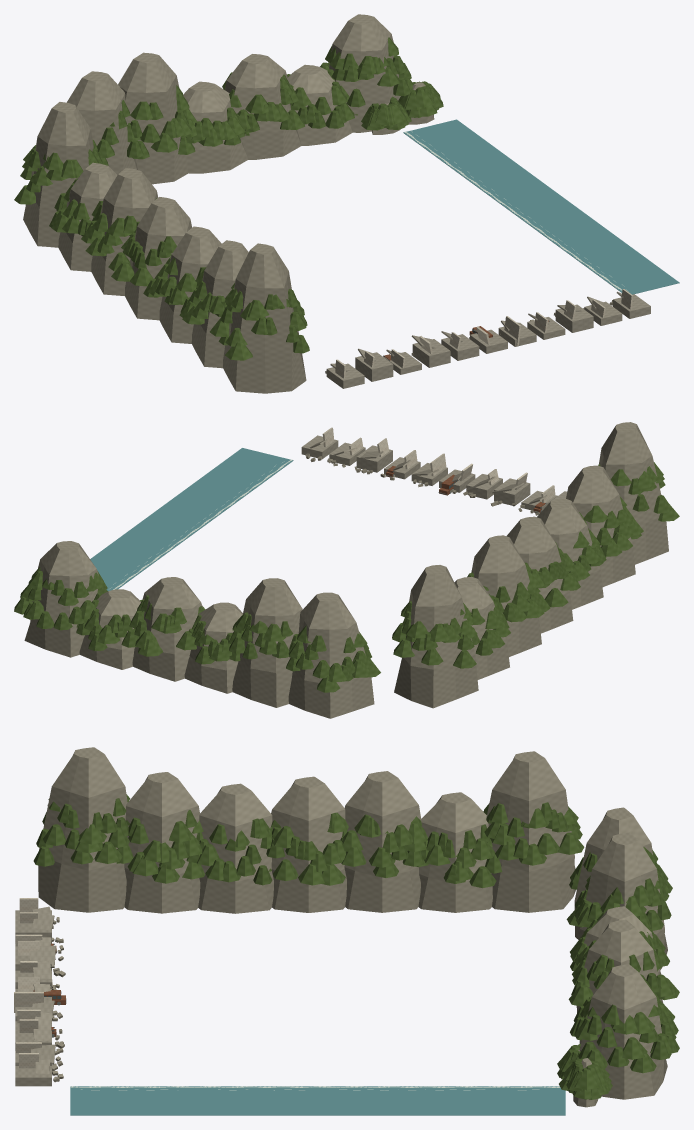
The model's file is rio-limites-v001.glb.
3 views of the same model, one above another, from view 1: azimuth 30°, elevation 25°; view 2: azimuth 150°, elevation 25°; view 3: azimuth 270°, elevation 25° (orthographic). The views are drawn at different scales.
Parts seen in each view (by area): view 1: RIO_limites_11_pedra, RIO_limites_21_mar, RIO_limites_00_folha, RIO_limites_20_folha, RIO_limites_02_folha, RIO_limites_10_folha, RIO_limites_01_folha, RIO_limites_02_concreto, RIO_limites_12_concreto, RIO_limites_22_concreto, RIO_limites_12_reboco, RIO_limites_02_reboco; view 2: RIO_limites_11_pedra, RIO_limites_00_folha, RIO_limites_21_mar, RIO_limites_10_folha, RIO_limites_02_folha, RIO_limites_20_folha, RIO_limites_01_folha, RIO_limites_12_concreto, RIO_limites_22_concreto, RIO_limites_02_concreto, RIO_limites_12_reboco; view 3: RIO_limites_11_pedra, RIO_limites_21_mar, RIO_limites_00_folha, RIO_limites_02_folha, RIO_limites_01_folha, RIO_limites_20_folha, RIO_limites_10_folha, RIO_limites_22_concreto, RIO_limites_02_concreto, RIO_limites_12_reboco, RIO_limites_12_concreto, RIO_limites_02_reboco.
Part boxes in pixels (<box>): RIO_limites_11_pedra: <box>23,14,434,393</box>; RIO_limites_21_mar: <box>403,119,679,294</box>; RIO_limites_00_folha: <box>14,85,205,243</box>; RIO_limites_20_folha: <box>320,37,443,130</box>; RIO_limites_02_folha: <box>158,267,309,360</box>; RIO_limites_10_folha: <box>198,72,331,146</box>; RIO_limites_01_folha: <box>85,198,177,297</box>; RIO_limites_02_concreto: <box>326,335,450,388</box>; RIO_limites_12_concreto: <box>441,313,565,360</box>; RIO_limites_22_concreto: <box>555,291,650,332</box>; RIO_limites_12_reboco: <box>449,300,576,349</box>; RIO_limites_02_reboco: <box>335,336,432,378</box>; RIO_limites_11_pedra: <box>24,422,668,718</box>; RIO_limites_00_folha: <box>225,573,527,692</box>; RIO_limites_21_mar: <box>90,448,293,591</box>; RIO_limites_10_folha: <box>97,595,231,664</box>; RIO_limites_02_folha: <box>571,462,679,566</box>; RIO_limites_20_folha: <box>14,567,107,651</box>; RIO_limites_01_folha: <box>468,531,591,618</box>; RIO_limites_12_concreto: <box>384,457,502,499</box>; RIO_limites_22_concreto: <box>301,435,392,472</box>; RIO_limites_02_concreto: <box>492,478,567,510</box>; RIO_limites_12_reboco: <box>377,438,498,485</box>; RIO_limites_11_pedra: <box>38,747,667,1107</box>; RIO_limites_21_mar: <box>70,1086,565,1115</box>; RIO_limites_00_folha: <box>394,802,672,933</box>; RIO_limites_02_folha: <box>33,794,245,883</box>; RIO_limites_01_folha: <box>235,812,408,885</box>; RIO_limites_20_folha: <box>557,999,679,1099</box>; RIO_limites_10_folha: <box>568,928,679,1022</box>; RIO_limites_22_concreto: <box>15,1026,55,1086</box>; RIO_limites_02_concreto: <box>15,906,55,970</box>; RIO_limites_12_reboco: <box>14,961,43,1032</box>; RIO_limites_12_concreto: <box>15,960,54,1030</box>; RIO_limites_02_reboco: <box>15,898,42,955</box>.
Bounding box in the file's own units: 126 × 34.15 × 145.
9 materials, 5 textured.
